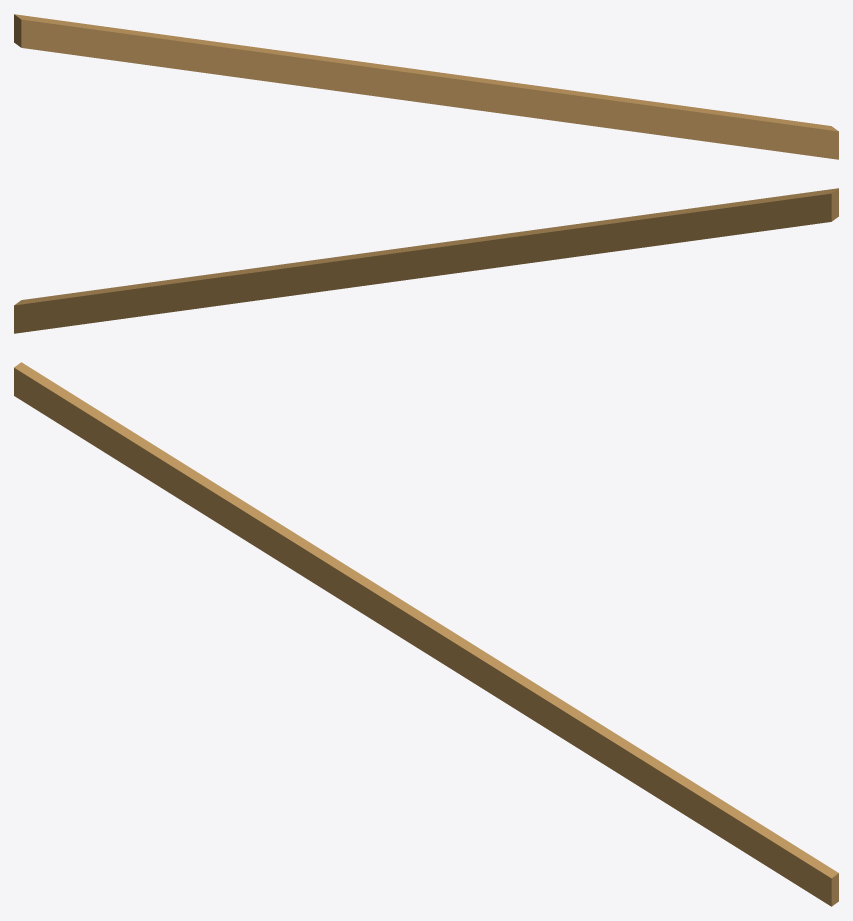
3 renders of one model, top to bottom at view 1: azimuth 30°, elevation 25°; view 2: azimuth 150°, elevation 25°; view 3: azimuth 330°, elevation 25°, orthographic.
Visible parts, largest first — view 1: L4-6-S5-3EB-M02; view 2: L4-6-S5-3EB-M02; view 3: L4-6-S5-3EB-M02.
Part boxes in pixels (box(x1,y1,x2,y2)): L4-6-S5-3EB-M02: box(14, 14, 838, 159); L4-6-S5-3EB-M02: box(14, 188, 838, 333); L4-6-S5-3EB-M02: box(14, 362, 838, 906).
Size of the model in its own units: 2.88 by 1.14 by 0.045.
